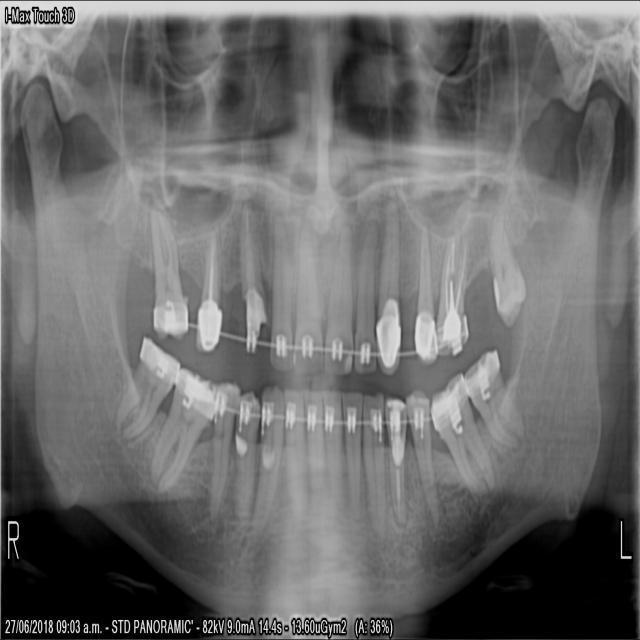LCD: (361, 390, 386, 510)
LCU: (374, 204, 403, 377), (382, 399, 406, 526)
LID: (340, 383, 366, 515), (323, 380, 345, 499)
LIU: (322, 218, 355, 376), (352, 221, 380, 376)
LMU: (426, 369, 496, 497), (460, 345, 525, 453), (402, 380, 438, 531), (484, 232, 528, 329)
LPMU: (432, 241, 472, 358), (413, 229, 440, 367)
RCD: (252, 384, 283, 511)
RCU: (238, 208, 269, 359)
RID: (282, 379, 308, 511), (302, 375, 326, 493)
RIU: (264, 215, 299, 376), (290, 221, 324, 371)
RMD: (148, 362, 225, 493), (120, 330, 181, 439)
RPMD: (207, 378, 240, 521), (225, 381, 261, 503)
RPMU: (148, 221, 190, 342), (191, 229, 224, 353)
